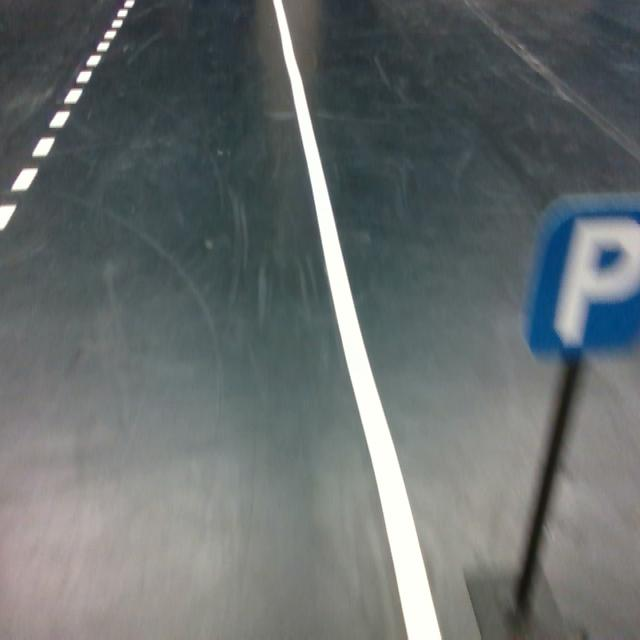parking-sign: (518, 189, 640, 368)
